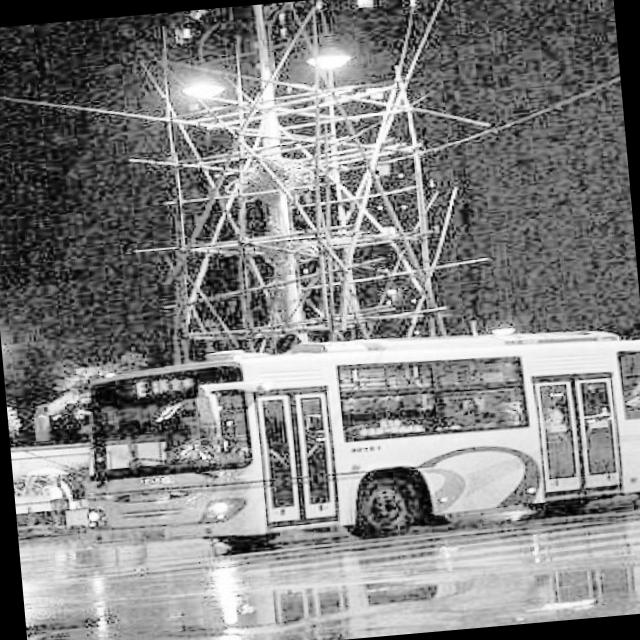Bus: (55, 301, 640, 613)
